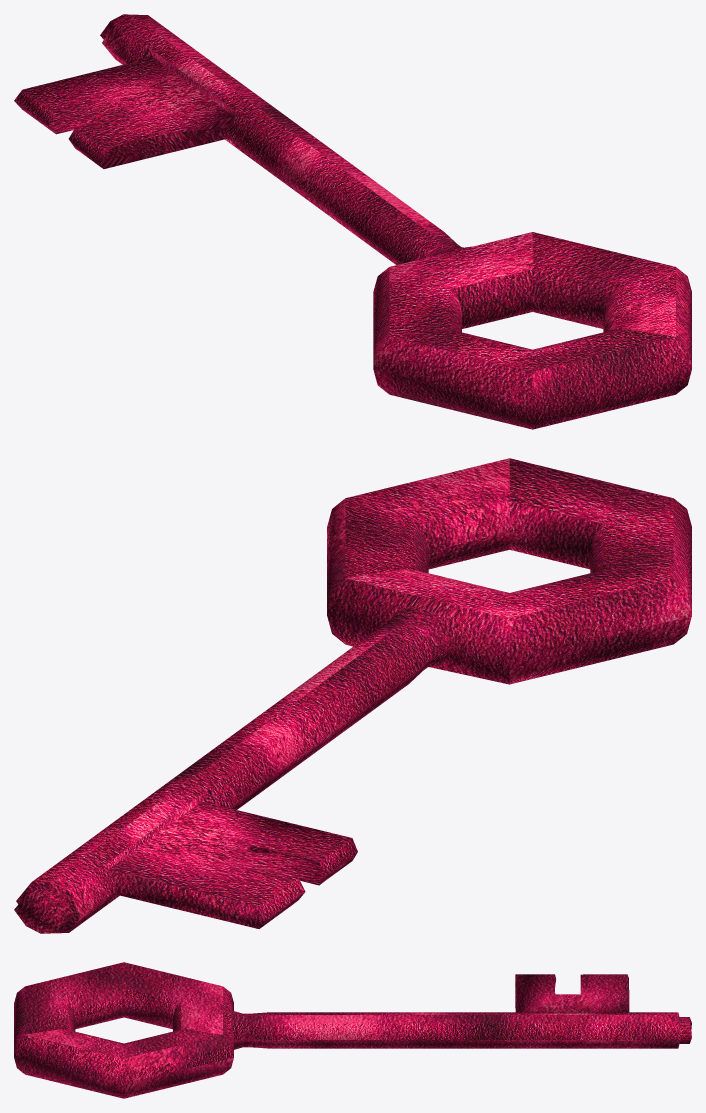
The model's file is key 2.fbx.
3 views of the same model, one above another, from view 1: azimuth 30°, elevation 25°; view 2: azimuth 150°, elevation 25°; view 3: azimuth 270°, elevation 25° (orthographic). The views are drawn at different scales.
Visible parts, largest first — view 1: Torus; view 2: Torus; view 3: Torus.
Part boxes in pixels (x1,y1,x2,y2): Torus: [14, 14, 691, 429]; Torus: [14, 458, 691, 933]; Torus: [14, 962, 691, 1098].
Bounding box in the file's own units: 250 × 43.3 × 667.
1 material, 1 textured.
